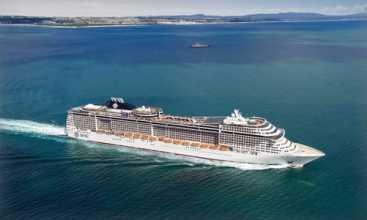youlun: (68, 95, 326, 173)
